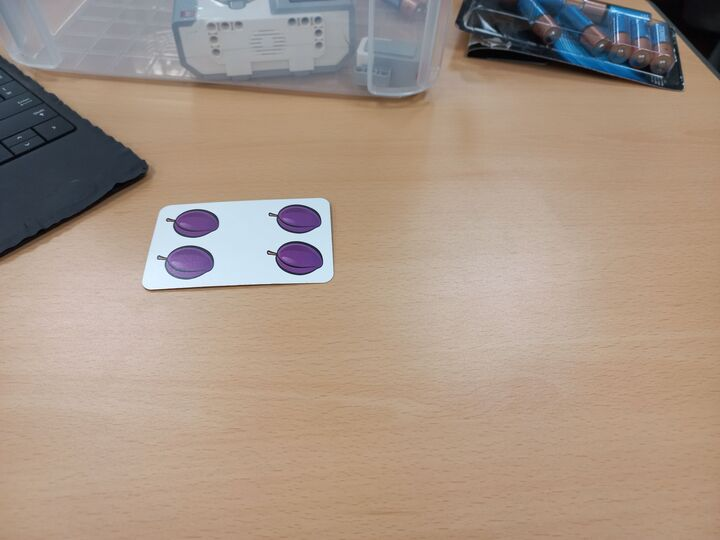plum4: (141, 196, 335, 292)
